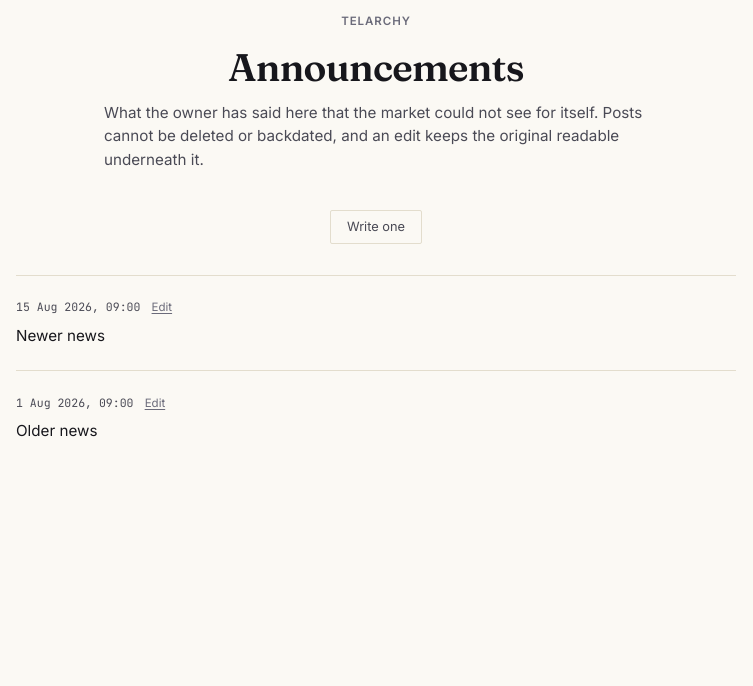
Test: the announcements page › the owner publishes, and is told first that it cannot be taken back
Click the button "Write one": (376, 227) left=330, top=210, right=422, bottom=244
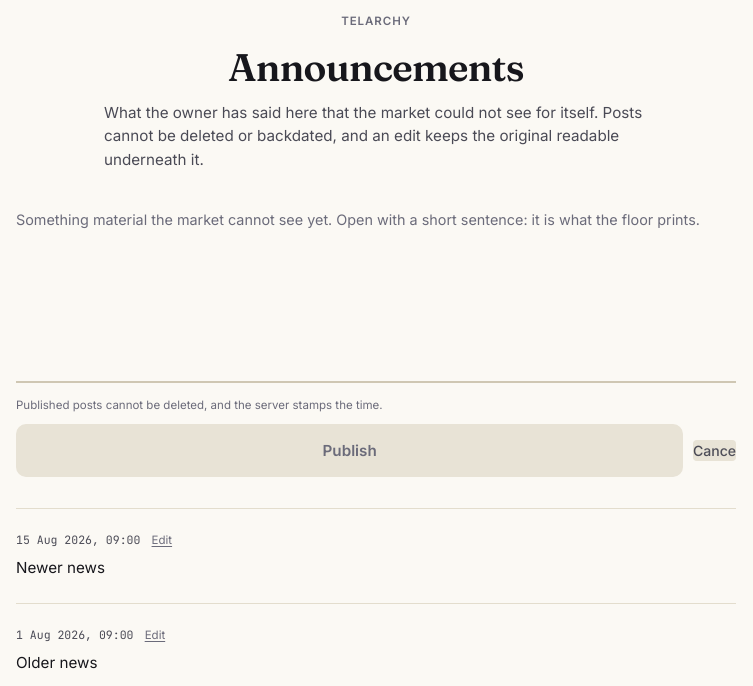
Result: the text "cannot be deleted, and the server stamps the time" is shown at left=16, top=398, right=383, bottom=412
Replace the text in the text box named "New announcement" with "Something material": (376, 296) left=16, top=210, right=736, bottom=383
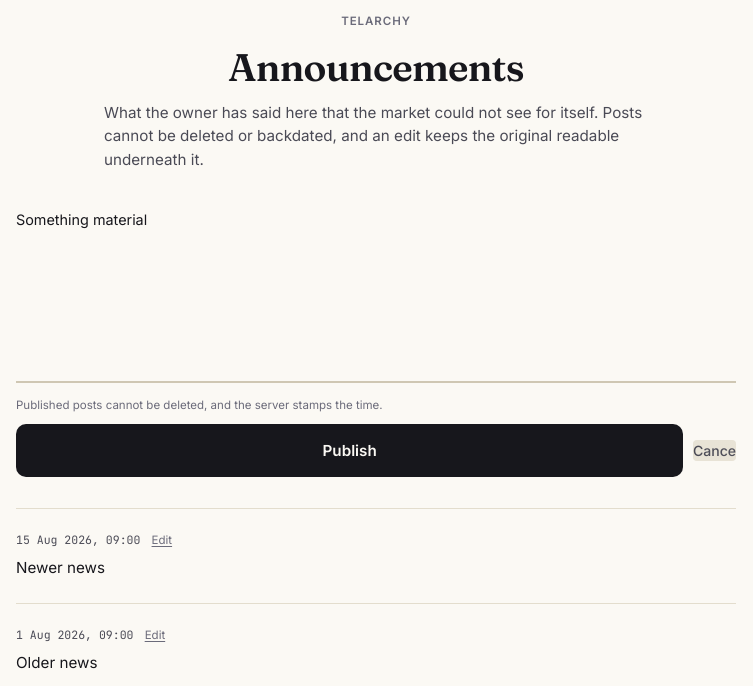
Click the button "Publish": (350, 450) left=16, top=424, right=683, bottom=477
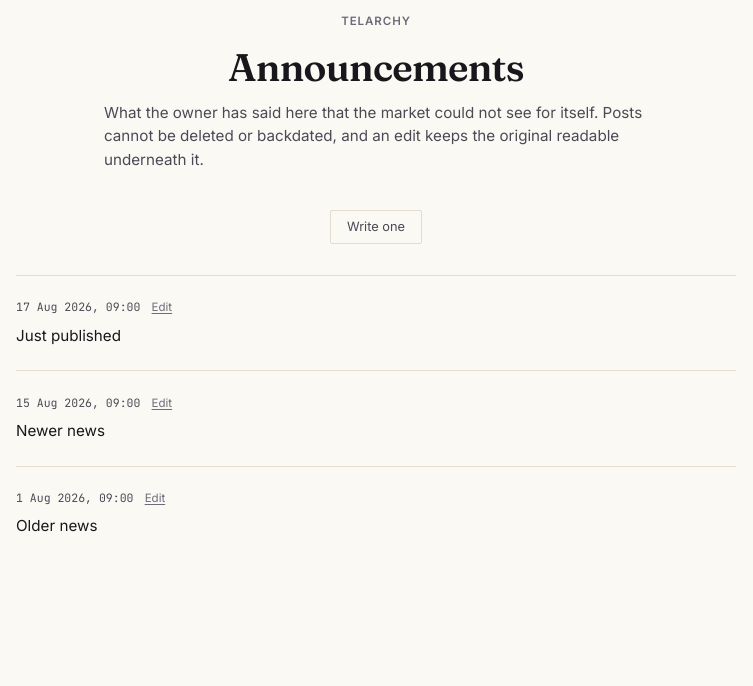
Result: the text "Just published" is shown at left=16, top=326, right=121, bottom=345
